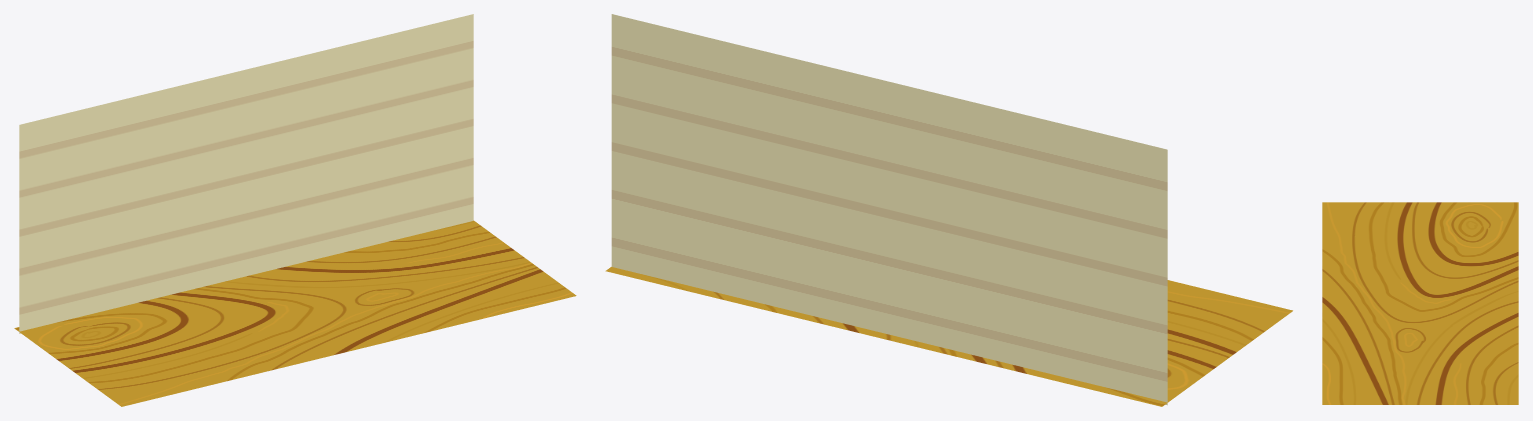
Rendered from table.glb.
3 views of the same model, side by side, from view 1: azimuth 30°, elevation 25°; view 2: azimuth 150°, elevation 25°; view 3: azimuth 270°, elevation 25° (orthographic). The views are drawn at different scales.
Parts seen in each view (by area): view 1: Plane.001, Plane; view 2: Plane.001, Plane; view 3: Plane.
Boxes of the visible parts, left/top/right/bottom form: Plane.001: left=19, top=14, right=473, bottom=333; Plane: left=14, top=220, right=576, bottom=406; Plane.001: left=611, top=14, right=1167, bottom=405; Plane: left=605, top=267, right=1292, bottom=406; Plane: left=1322, top=202, right=1518, bottom=404.
Size of the model in its own units: 10.52 by 4.62 by 4.31.
2 materials, 2 textured.
